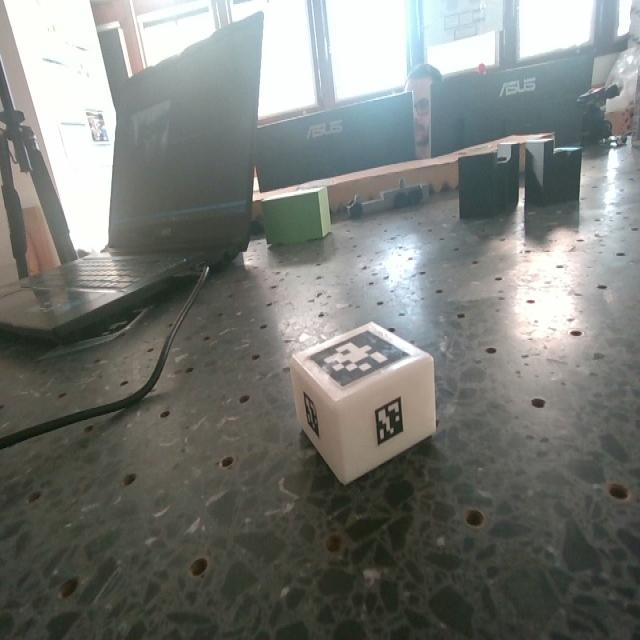Cube: (292, 318, 435, 482)
